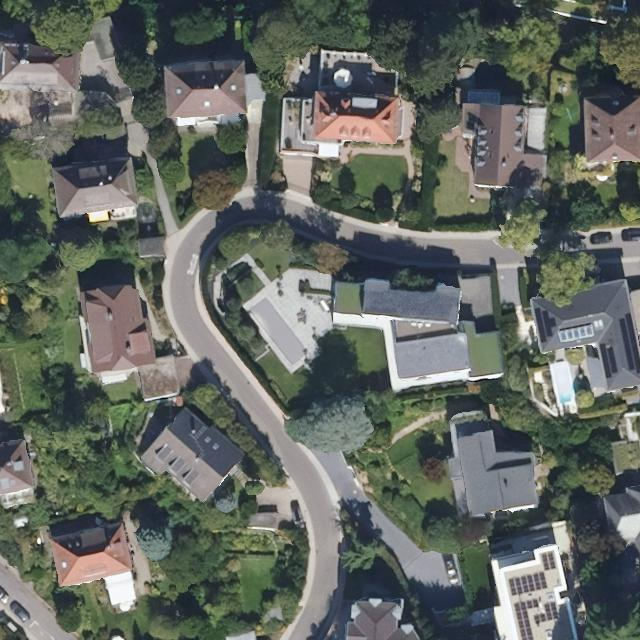PV: (616, 311, 639, 375), (507, 570, 549, 597), (513, 598, 540, 639), (534, 306, 558, 345), (557, 323, 596, 344), (599, 342, 619, 380), (532, 600, 561, 626), (540, 551, 557, 571)
